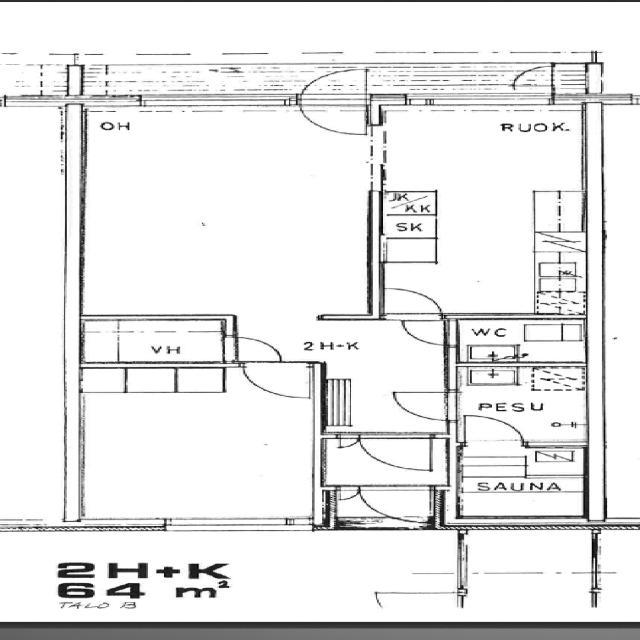door: (73, 318, 244, 368), (361, 390, 450, 471), (293, 66, 368, 141), (326, 483, 444, 526), (349, 430, 443, 475), (237, 360, 320, 401), (380, 386, 465, 424), (451, 412, 536, 449), (372, 284, 446, 320), (392, 315, 457, 348), (222, 334, 291, 364), (508, 66, 556, 93)
window: (157, 515, 311, 534), (398, 90, 540, 108)
zone: (75, 101, 378, 318), (376, 98, 590, 323), (66, 364, 324, 528), (450, 441, 590, 524), (454, 363, 583, 447), (77, 316, 233, 366), (448, 316, 586, 365), (135, 94, 289, 113), (0, 62, 79, 98)
